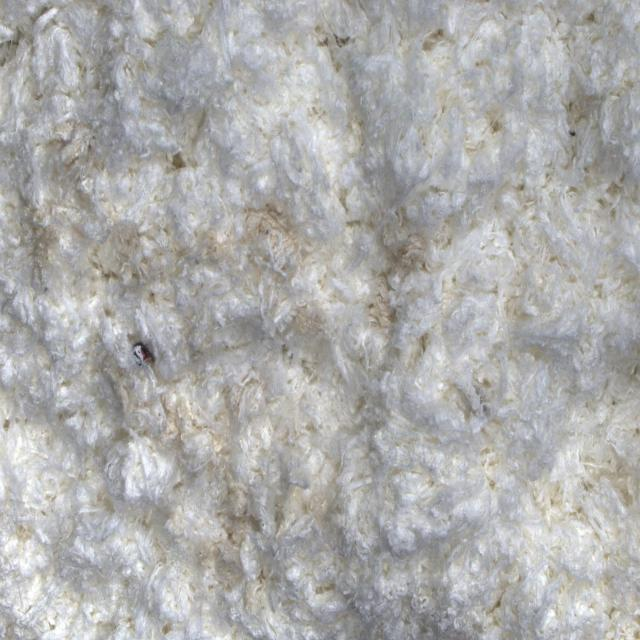dust: (127, 313, 166, 393)
